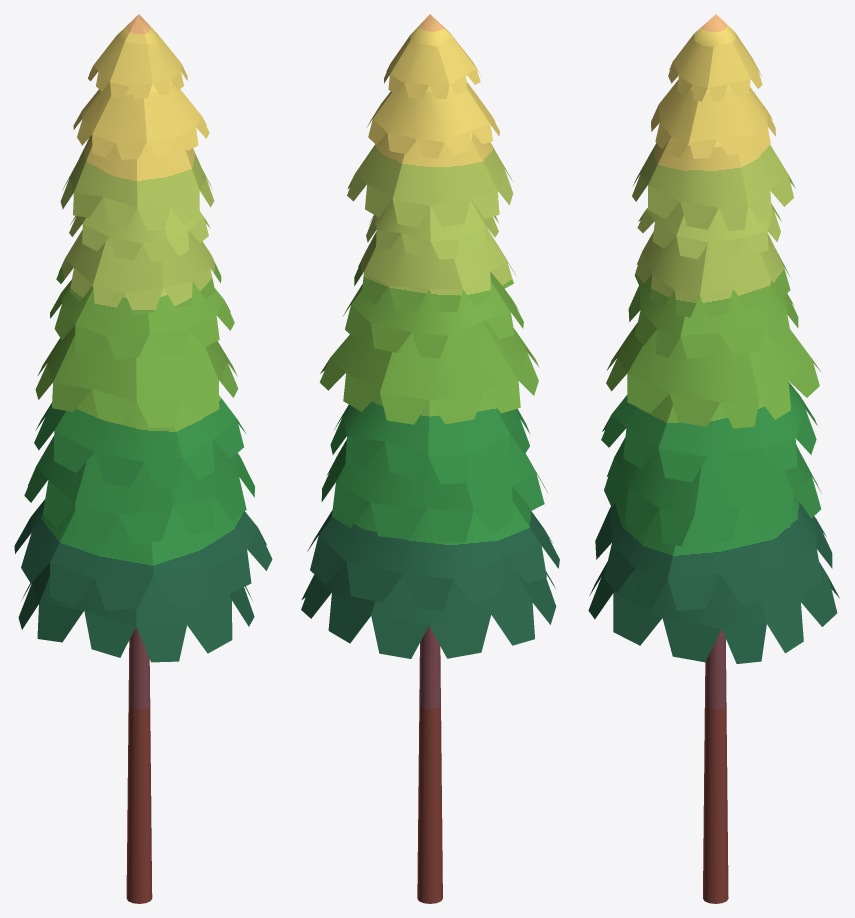
File: tree.glb
3 views of the same model, side by side, from view 1: azimuth 30°, elevation 25°; view 2: azimuth 150°, elevation 25°; view 3: azimuth 270°, elevation 25° (orthographic).
Visible parts, largest first — view 1: Cylinder; view 2: Cylinder; view 3: Cylinder.
Part boxes in pixels (<box>): Cylinder: <box>14,14,272,903</box>; Cylinder: <box>301,14,559,903</box>; Cylinder: <box>588,14,839,903</box>.
Size of the model in its own units: 5.98 by 22.85 by 5.9.
1 material, 1 textured.
